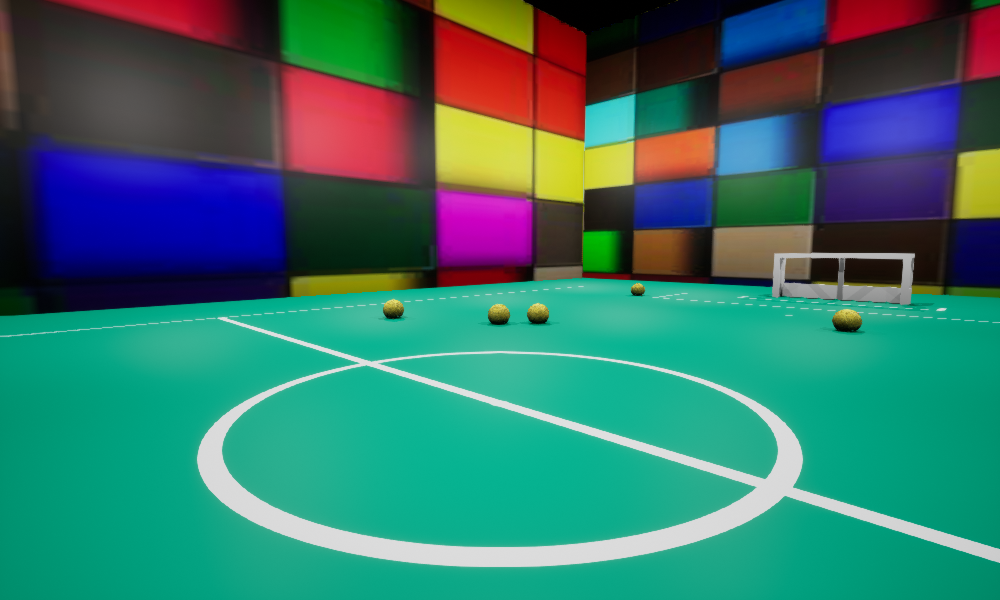b: (832, 309, 861, 331), (527, 303, 548, 323), (488, 304, 509, 323), (383, 299, 403, 318), (631, 283, 644, 295)
g: (772, 253, 914, 304)
